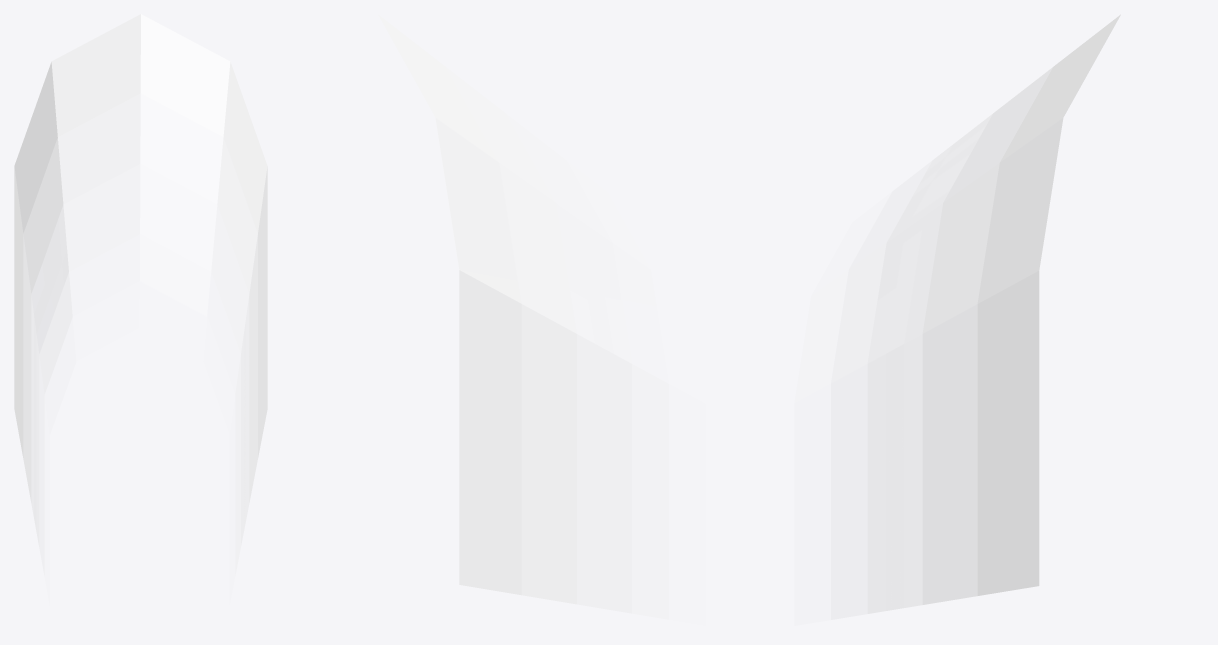
3 views of the same model, side by side, from view 1: azimuth 30°, elevation 25°; view 2: azimuth 150°, elevation 25°; view 3: azimuth 270°, elevation 25° (orthographic). The views are drawn at different scales.
Bounding box in the file's own units: 1.16 × 2.01 × 1.23.
Materials: 1 (1 with a texture image).
